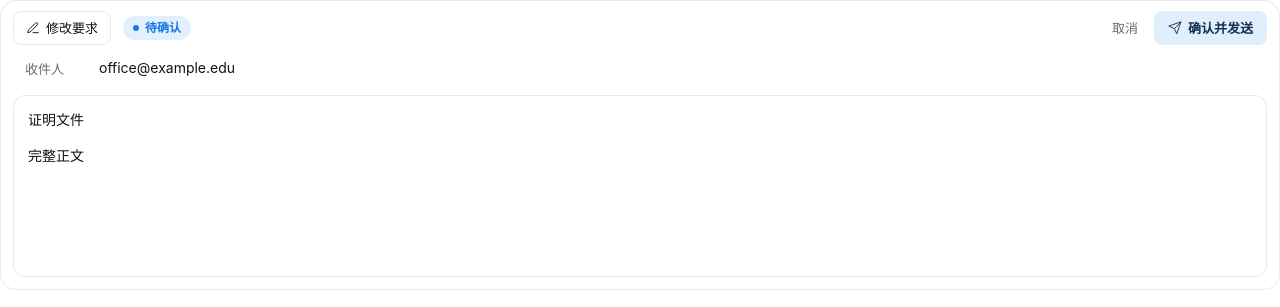
Scenario: 点在修改要求输入框之外收起成按钮，已输入的文字保留
The image size is (1280, 307).
Click the button "修改要求".
click(62, 28)  # box x1=13 y1=11 x2=111 y2=45
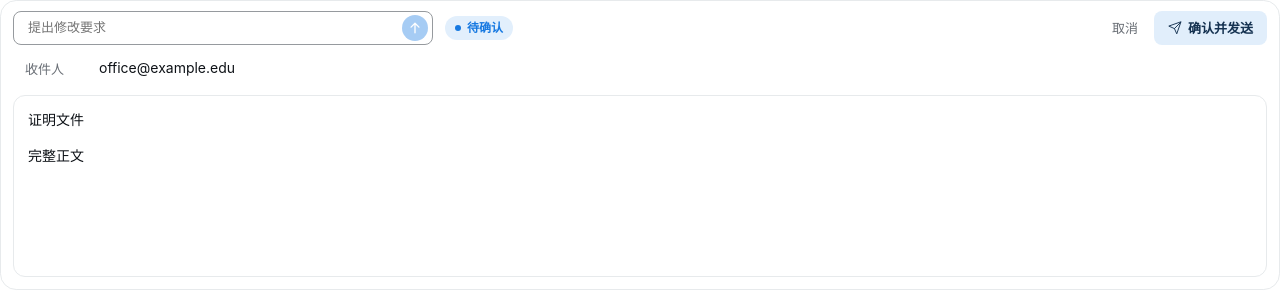
Type "短一点" into the field named "针对这封邮件提出修改要求".
click(211, 28); type("短一点")  # box x1=26 y1=17 x2=396 y2=39
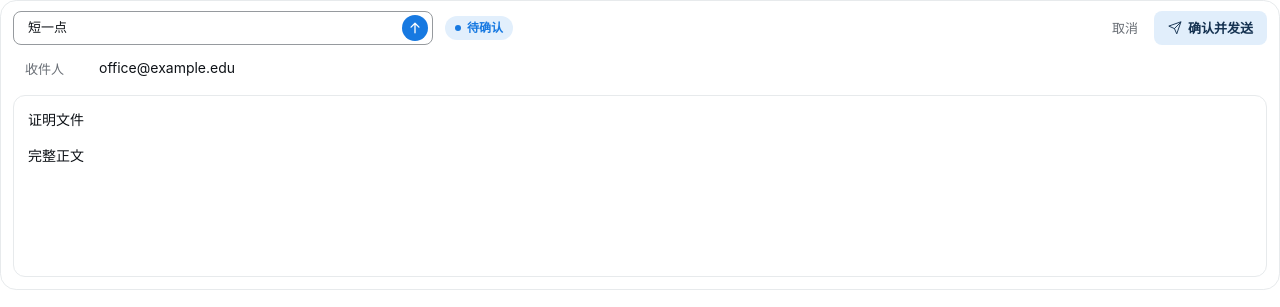
Click the text box named "正文".
click(640, 204)  # box x1=28 y1=144 x2=1252 y2=264
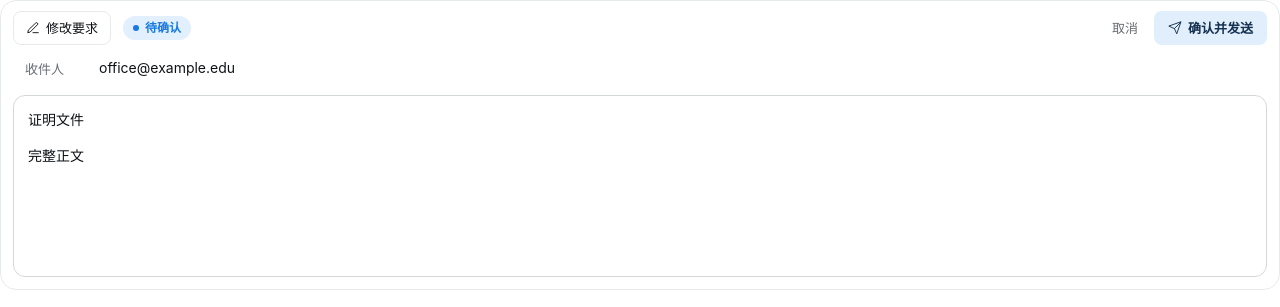
Expected: the field labelled "针对这封邮件提出修改要求" is gone
Click the button "修改要求".
click(62, 28)  # box x1=13 y1=11 x2=111 y2=45
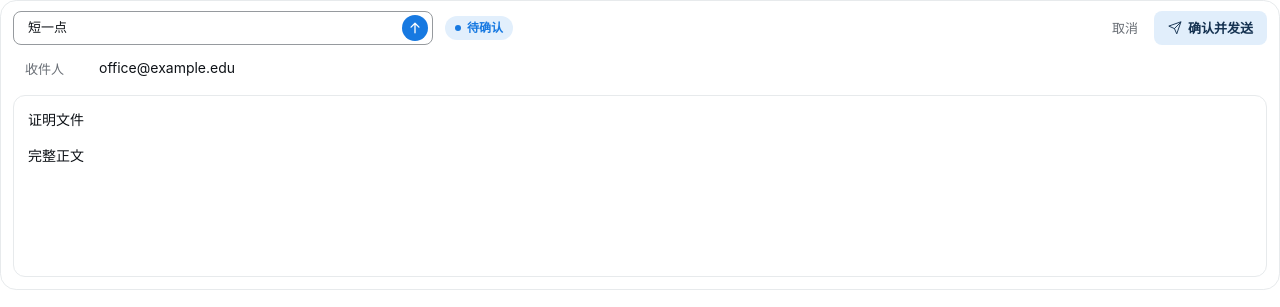
Expected: the field named "针对这封邮件提出修改要求" holds "短一点", x1=26 y1=17 x2=396 y2=39
